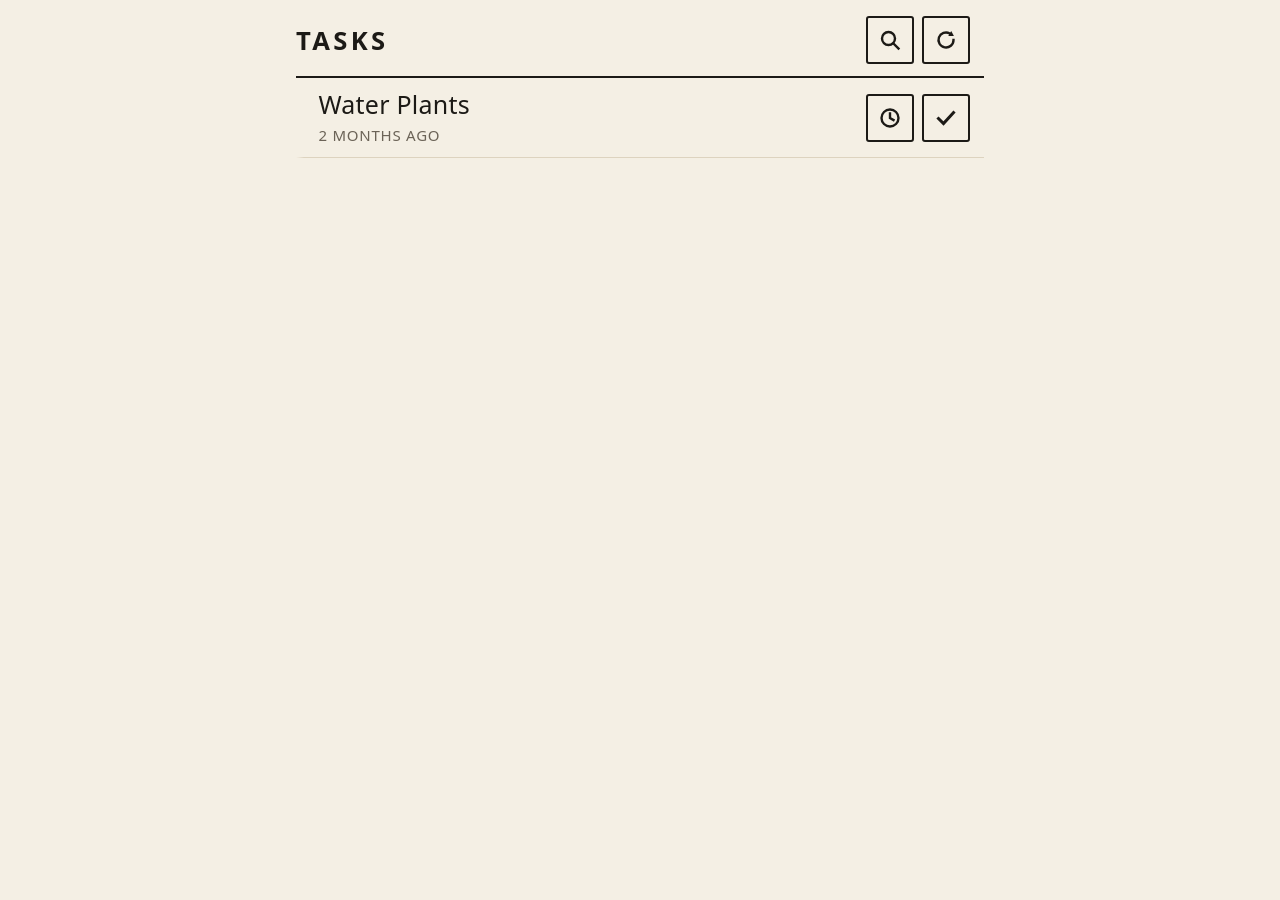
it: App › search › keeps private chores out on the public board
The image size is (1280, 900).
Check: the text "Water Plants" is shown, box [318,87,470,121]
Click the button named "Search tasks". click: {"x": 890, "y": 40}
box: [866,16,914,64]
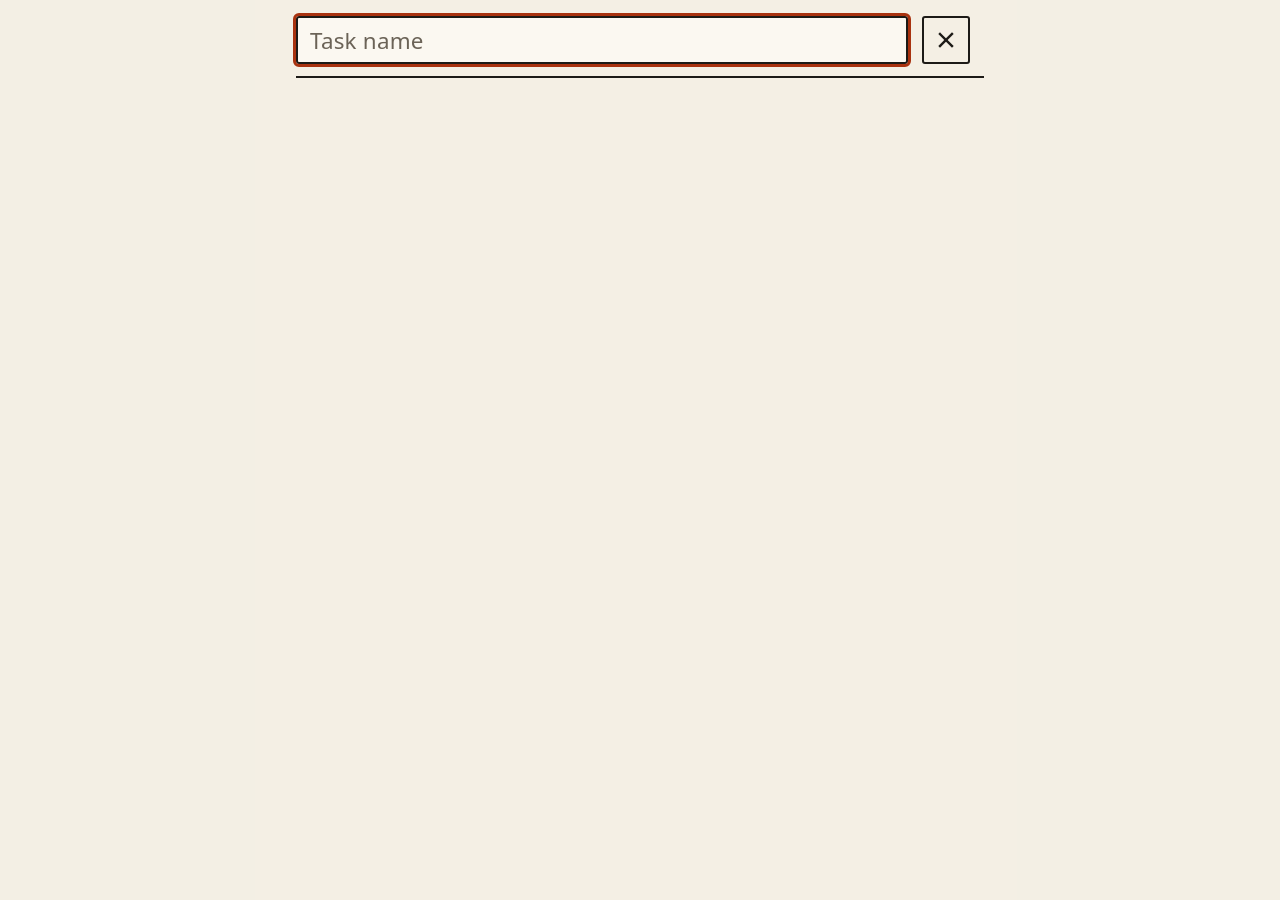
Type keys "plant"
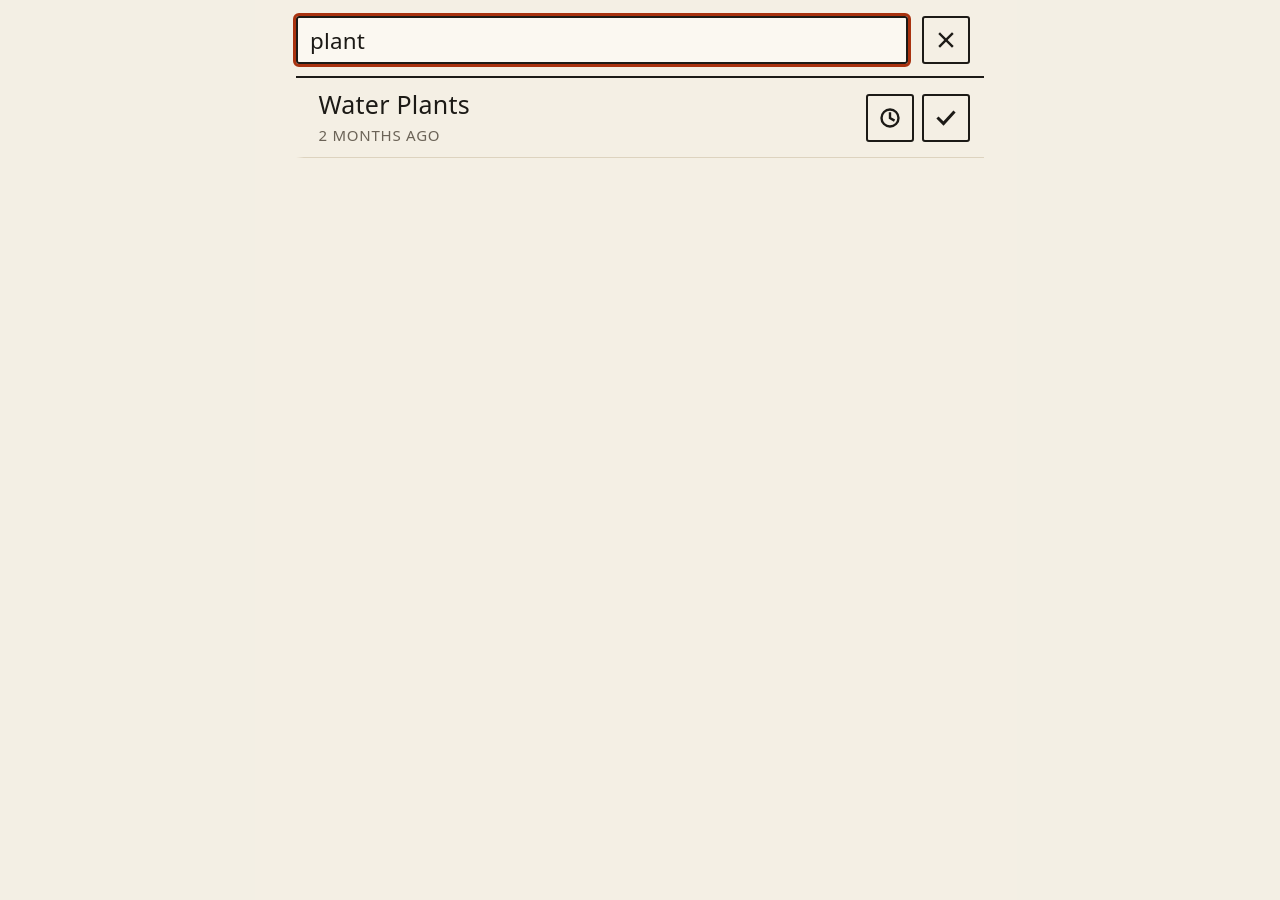
Check: the text "Water Plants" is shown, box [318,87,470,121]
